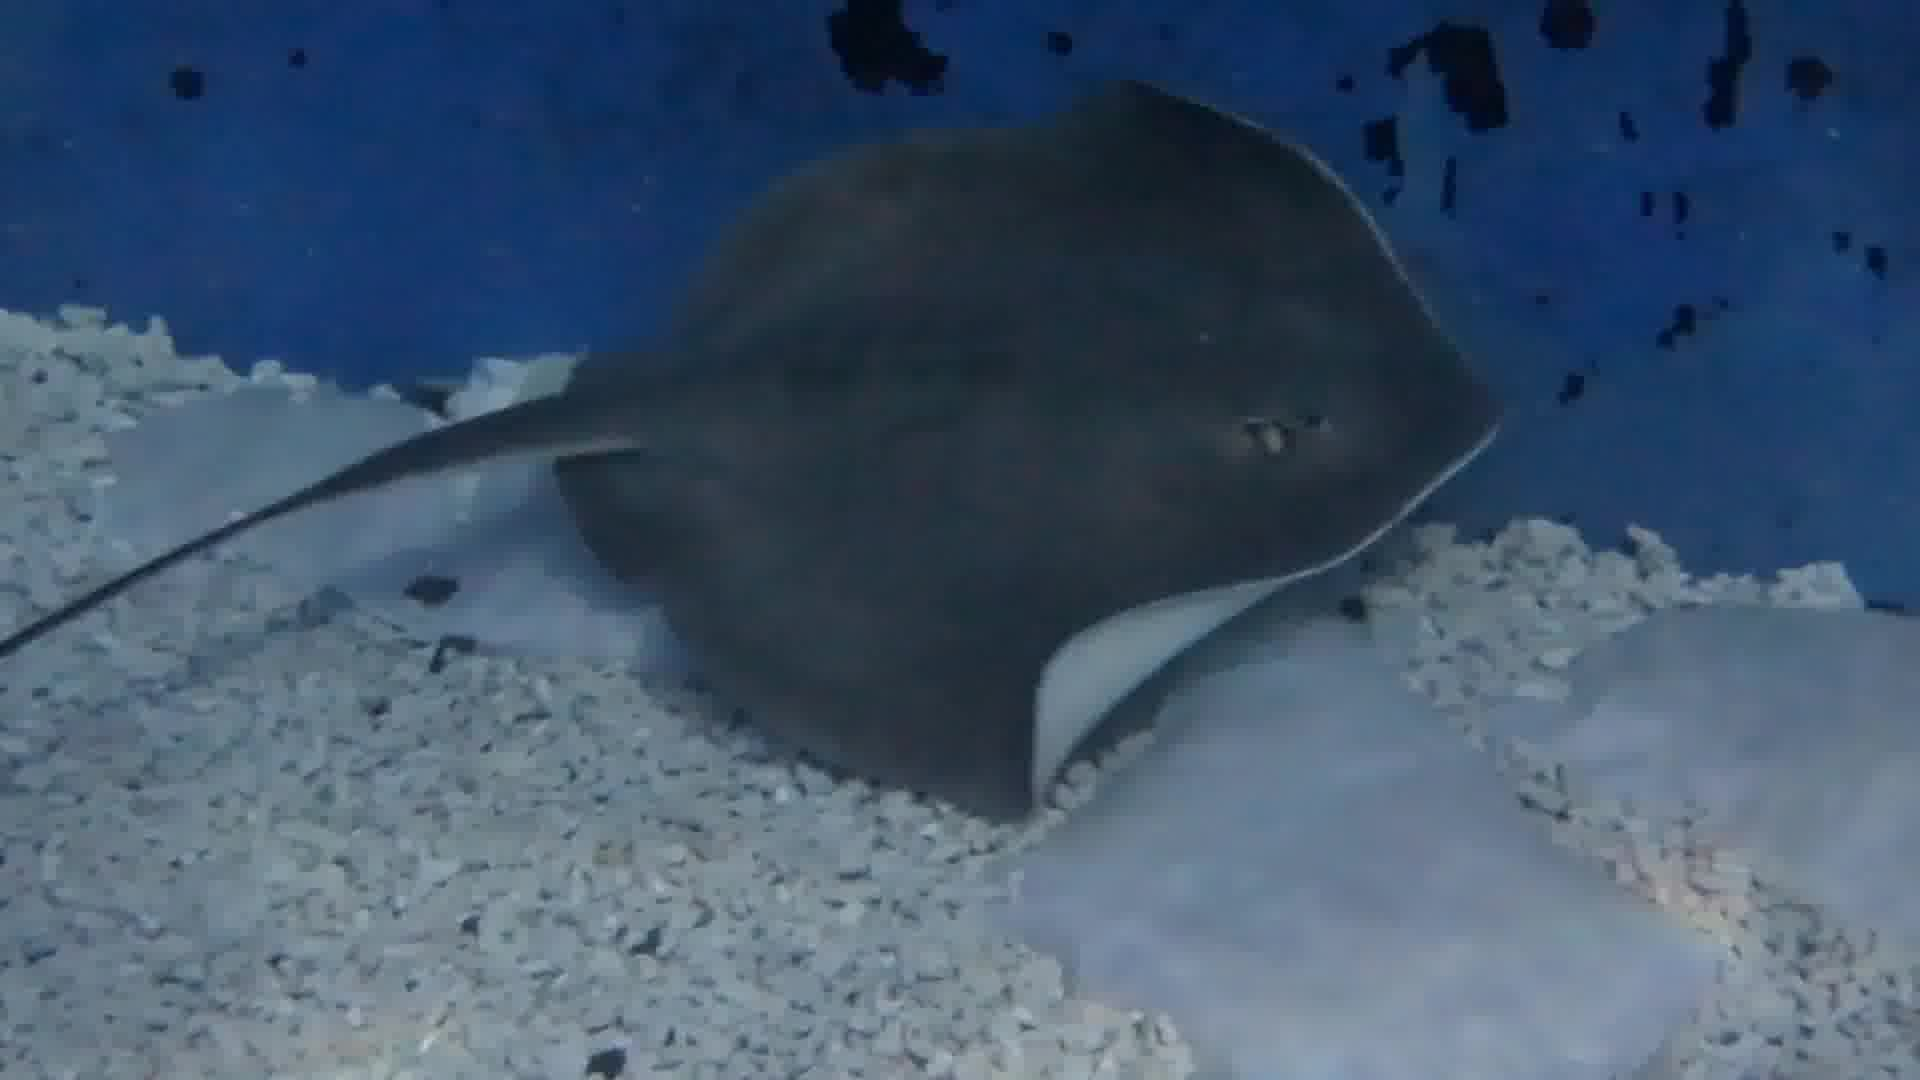Dasyatis bennetti: (473, 34, 1513, 862)
